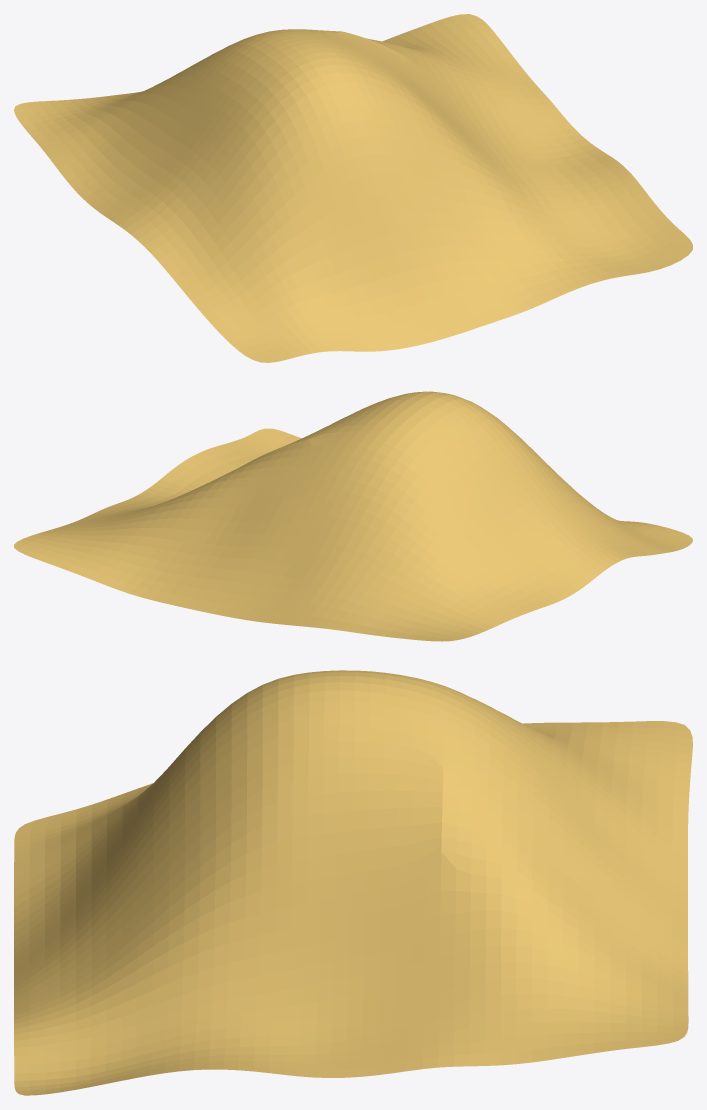
Rendered from Gravats 1.fbx.
3 views of the same model, one above another, from view 1: azimuth 30°, elevation 25°; view 2: azimuth 150°, elevation 25°; view 3: azimuth 270°, elevation 25° (orthographic). The views are drawn at different scales.
Visible parts, largest first — view 1: Plane; view 2: Plane; view 3: Plane.
Part boxes in pixels (bbox=[...]): Plane: bbox=[14, 14, 692, 362]; Plane: bbox=[14, 391, 692, 641]; Plane: bbox=[14, 670, 692, 1095].
Size of the model in its own units: 712 by 288 by 650.
